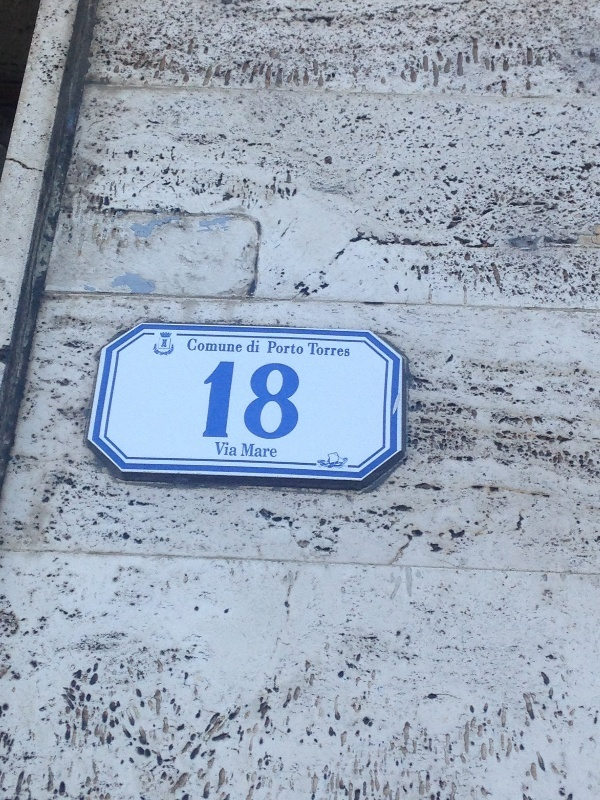text: (209, 360, 224, 441), (225, 360, 240, 441), (241, 360, 256, 441), (257, 360, 272, 441), (273, 360, 288, 441), (289, 360, 302, 441), (205, 360, 208, 441), (257, 443, 272, 458), (273, 341, 288, 356), (242, 443, 256, 458), (321, 343, 336, 357), (289, 341, 303, 356), (193, 338, 208, 352), (209, 338, 224, 352), (225, 338, 240, 352), (225, 442, 238, 456), (337, 343, 350, 357), (308, 343, 320, 357), (215, 442, 224, 456), (162, 339, 176, 348), (250, 340, 256, 353), (273, 443, 278, 458), (268, 341, 272, 356), (188, 338, 192, 352), (257, 340, 260, 353), (241, 338, 242, 352)
